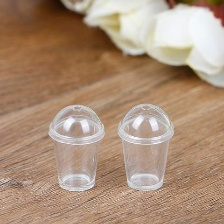glass: (112, 98, 175, 196), (46, 99, 107, 193)
